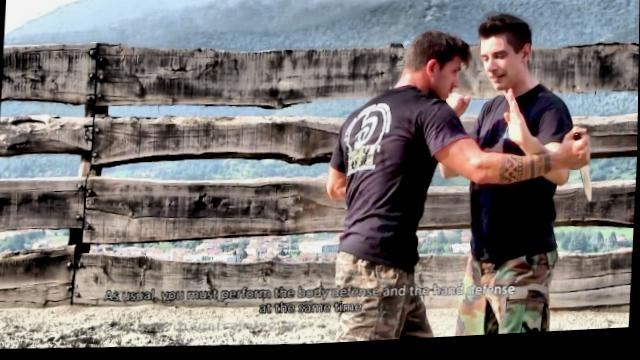knife: (561, 129, 598, 212)
